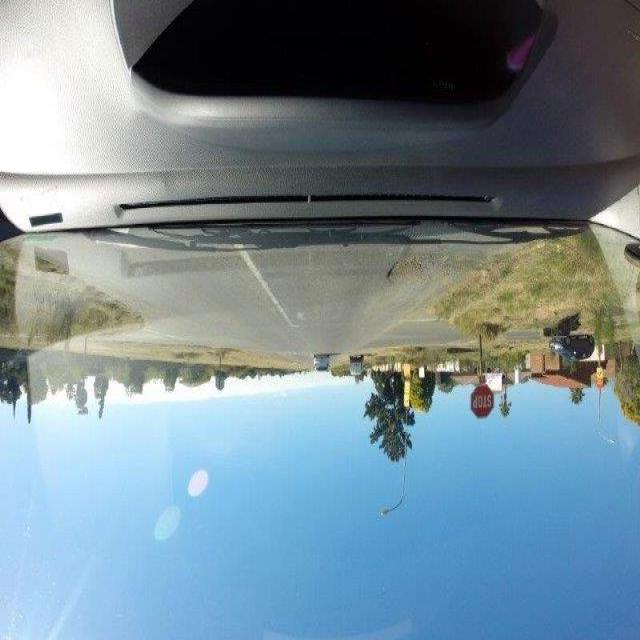jalan retak: (381, 255, 443, 282)
